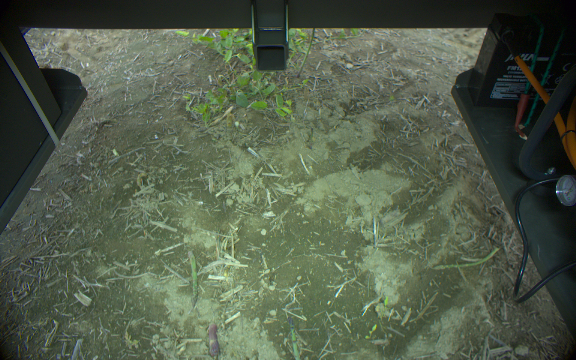aspa: (431, 245, 502, 279), (296, 27, 316, 78), (284, 314, 302, 360), (187, 249, 201, 306), (205, 321, 220, 357)
